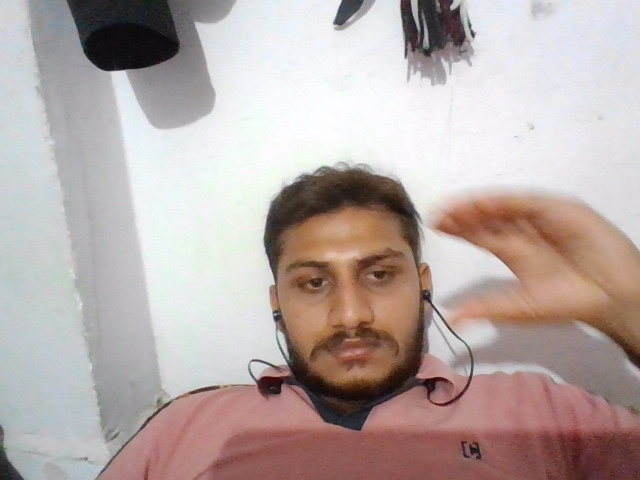No: (420, 172, 619, 337)
